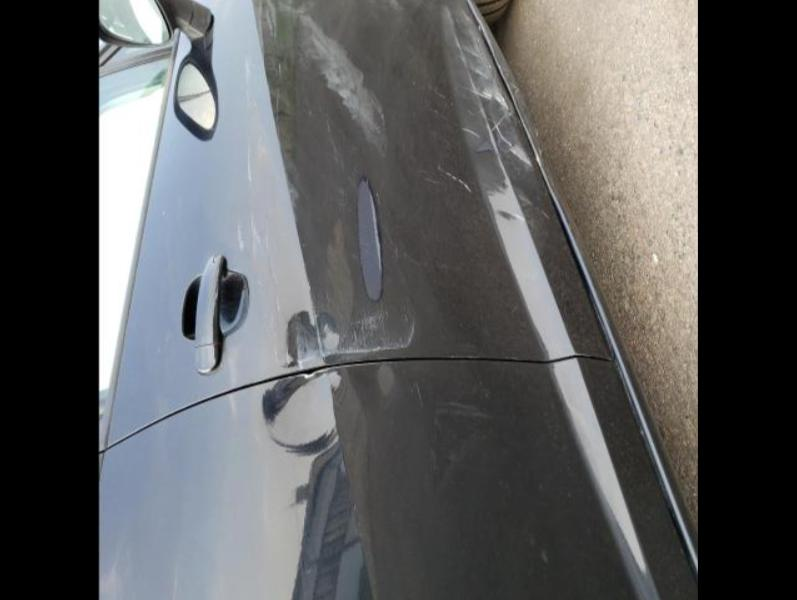Dent: (259, 365, 348, 459), (282, 308, 340, 367), (496, 206, 529, 221), (475, 139, 495, 155)
Scratch: (265, 0, 389, 156), (453, 6, 538, 167), (235, 54, 282, 317), (315, 302, 416, 354), (355, 176, 386, 306), (414, 160, 474, 196), (275, 61, 283, 140), (414, 380, 427, 407)
